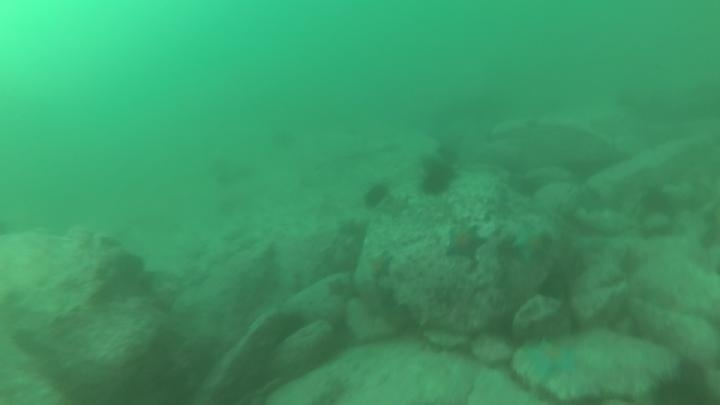echinus: (672, 356, 715, 402), (646, 372, 709, 403), (265, 309, 308, 347), (108, 250, 148, 288), (637, 185, 676, 220), (360, 180, 392, 211), (434, 141, 462, 167), (437, 163, 466, 187), (418, 153, 447, 177), (421, 174, 449, 197)
starfish: (512, 335, 581, 385), (509, 221, 556, 265), (442, 221, 488, 262), (364, 247, 397, 287), (379, 191, 413, 221), (325, 276, 351, 300), (335, 215, 361, 239)
